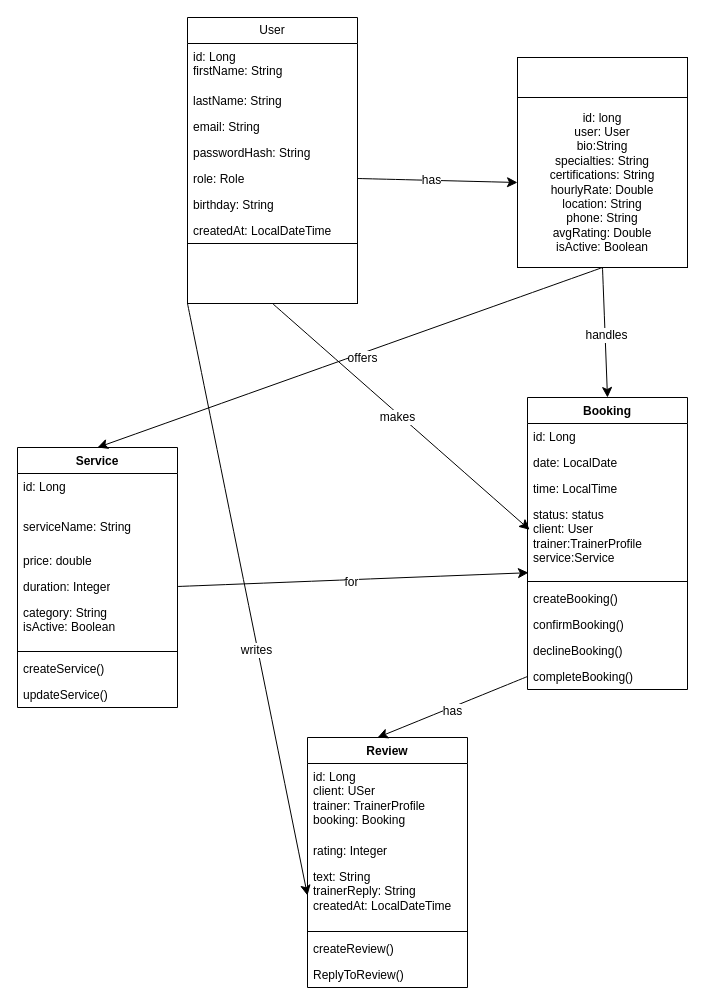
Image size: 705x1008. Some labels were removed from this diagram. The centre of each missing label's shape, as x and y in pixels:
"createUser() updateUser() login() signup()" goes at point (272, 273).
"TrainerProfile" goes at point (602, 77).
